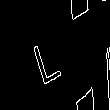L_NW: (37, 25, 73, 85)
